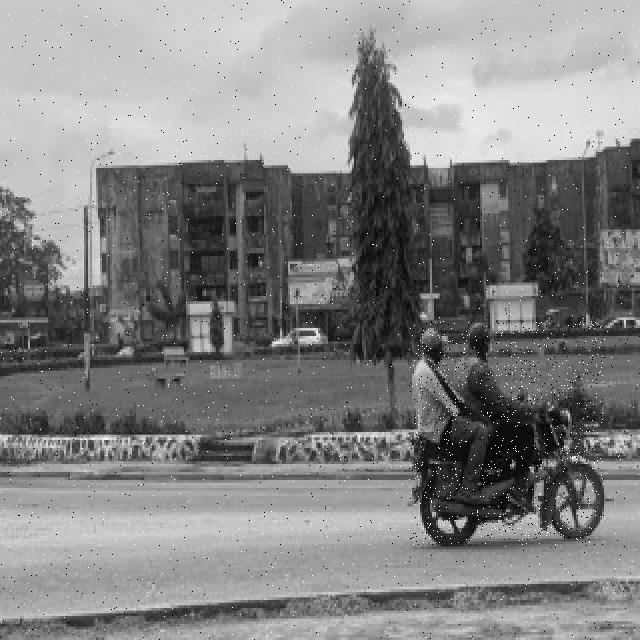Motorbike: (409, 321, 604, 546)
